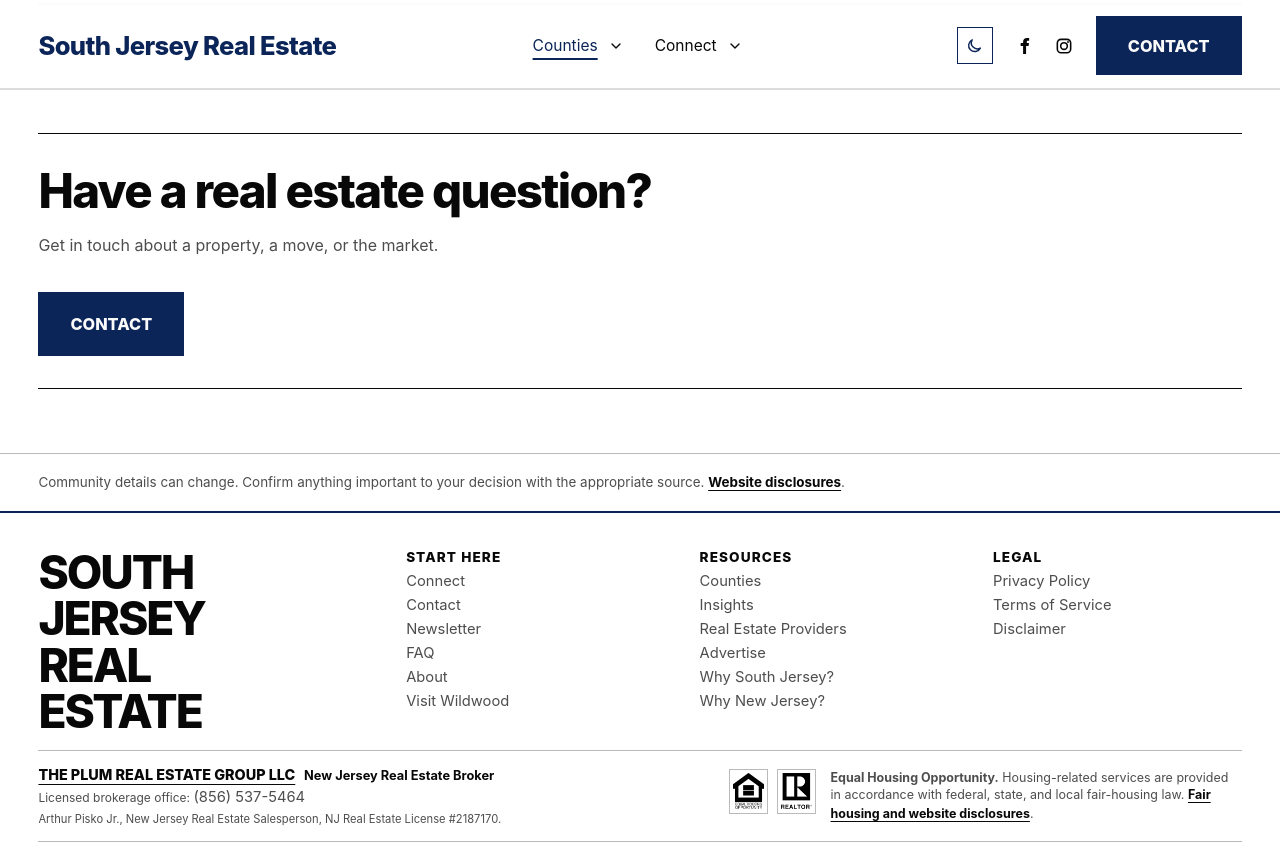
Test: public page navigation and content refresh › preserves query and town anchor when following an internal edited link
(page scrolled)
Click the link "Visit Wildwood" at (458, 701), box [406, 692, 509, 710]
(page scrolled)
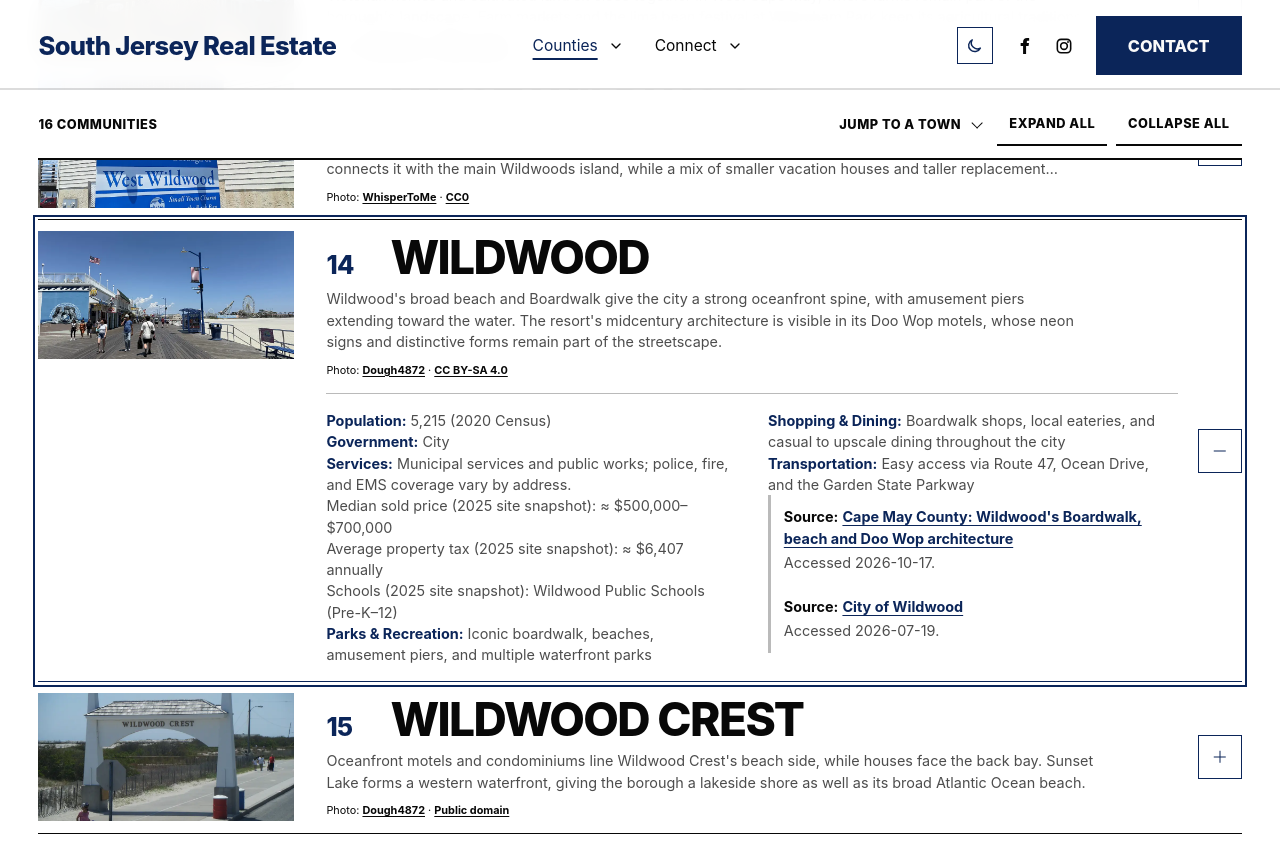
Check: the button with aria-label "Collapse Wildwood details" is shown, box [1198, 428, 1242, 472]
